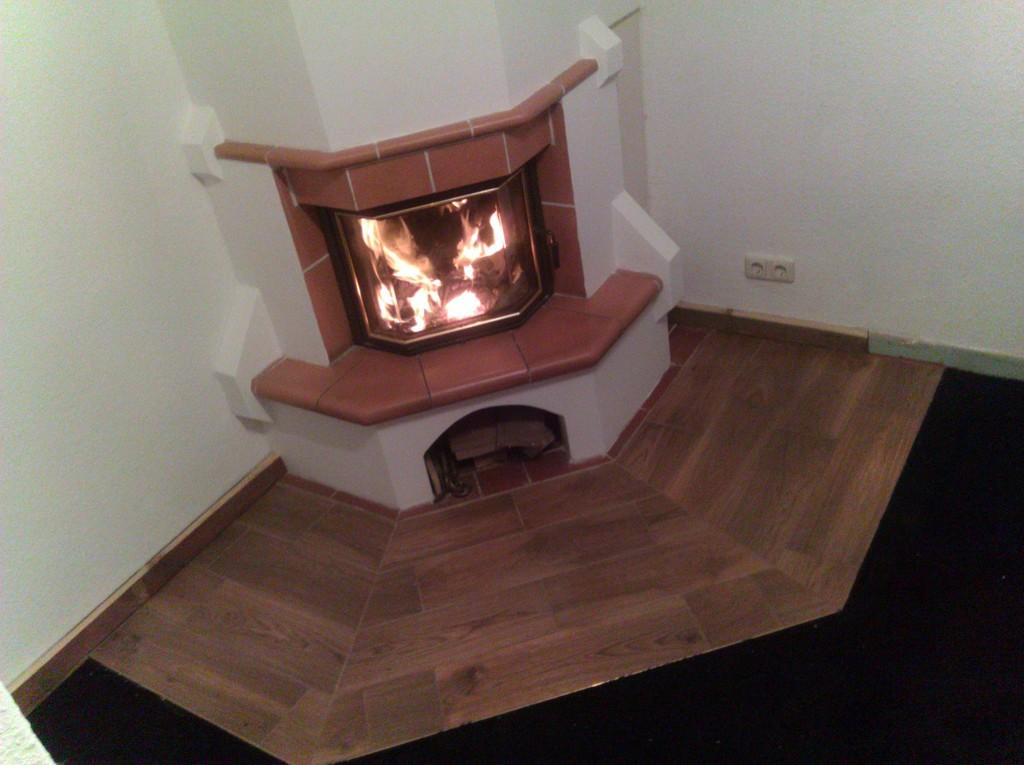Fire: (358, 194, 506, 328)
